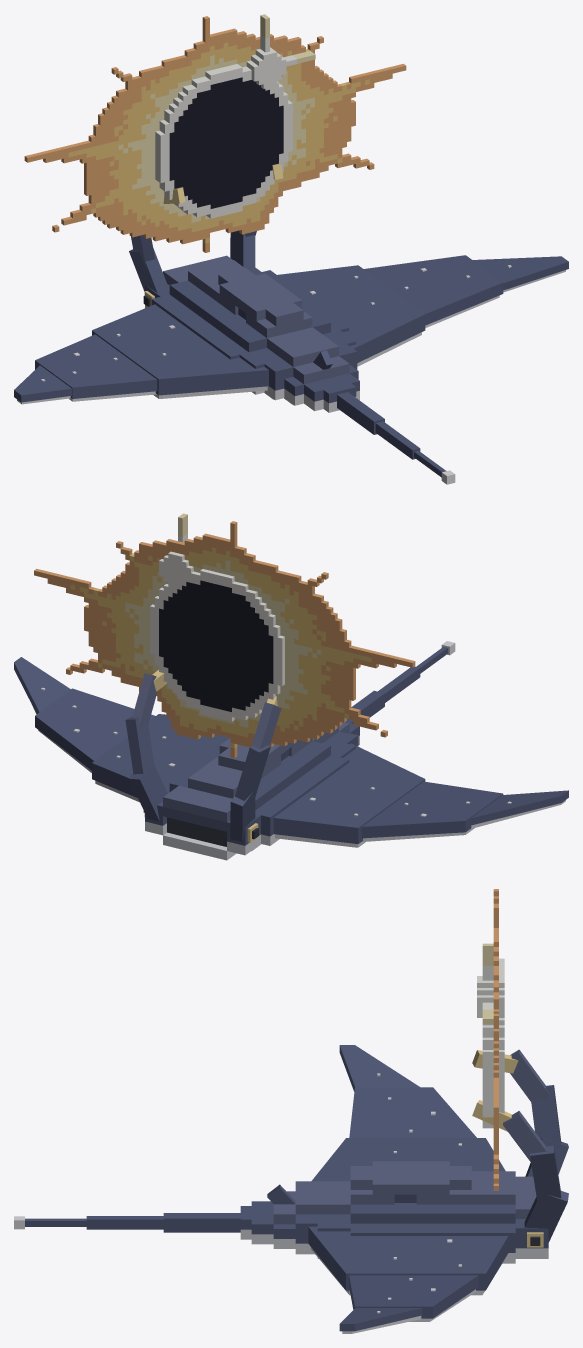
The model's file is Totality.glb.
The picture shows the model from 3 angles, top to bottom: view 1: azimuth 30°, elevation 25°; view 2: azimuth 150°, elevation 25°; view 3: azimuth 270°, elevation 25°; orthographic projection. The views are drawn at different scales.
Parts seen in each view (by area): view 1: Corona, Body, Eclipse, WingL1, WingR1, Eclipse_Glow, WingR2, WingL2, WingR3, WingL3, Tail1, Tail2; view 2: Corona, Body, Eclipse, WingL1, Eclipse_Glow, WingL2, WingR2, WingR1, WingL3, WingR3, Tail2, Tail1; view 3: Body, WingR1, WingL2, WingL1, WingR2, Eclipse_Glow, WingL3, Corona, Tail1, WingR3, Tail2, Body_Glow (+1 smaller).
Boxes of the visible parts, <box> form: Corona: <box>24,16,406,252</box>; Body: <box>129,230,359,412</box>; Eclipse: <box>169,77,283,208</box>; WingL1: <box>92,304,268,398</box>; WingR1: <box>277,265,425,366</box>; Eclipse_Glow: <box>155,14,315,218</box>; WingR2: <box>364,255,503,327</box>; WingL2: <box>35,334,157,401</box>; WingR3: <box>473,256,568,292</box>; WingL3: <box>14,365,71,404</box>; Tail1: <box>337,392,384,434</box>; Tail2: <box>375,421,420,459</box>; Corona: <box>34,521,415,757</box>; Body: <box>125,673,359,860</box>; Eclipse: <box>159,580,273,711</box>; WingL1: <box>273,743,425,847</box>; Eclipse_Glow: <box>133,513,284,721</box>; WingL2: <box>361,781,503,841</box>; WingR2: <box>35,688,155,772</box>; WingR1: <box>92,714,222,802</box>; WingL3: <box>471,790,568,828</box>; WingR3: <box>14,657,70,714</box>; Tail2: <box>378,666,420,702</box>; Tail1: <box>351,690,384,717</box>; Body: <box>240,1049,568,1263</box>; WingR1: <box>308,1226,508,1295</box>; WingL2: <box>349,1087,476,1137</box>; WingL1: <box>311,1138,505,1181</box>; WingR2: <box>349,1275,478,1321</box>; Eclipse_Glow: <box>477,943,504,1128</box>; WingL3: <box>339,1045,419,1091</box>; Corona: <box>493,889,498,1190</box>; Tail1: <box>163,1213,240,1232</box>; WingR3: <box>339,1308,422,1333</box>; Tail2: <box>86,1216,163,1229</box>; Body_Glow: <box>472,1050,543,1247</box>.
Bounding box in the file's own units: 36 × 19.8 × 30.28.
